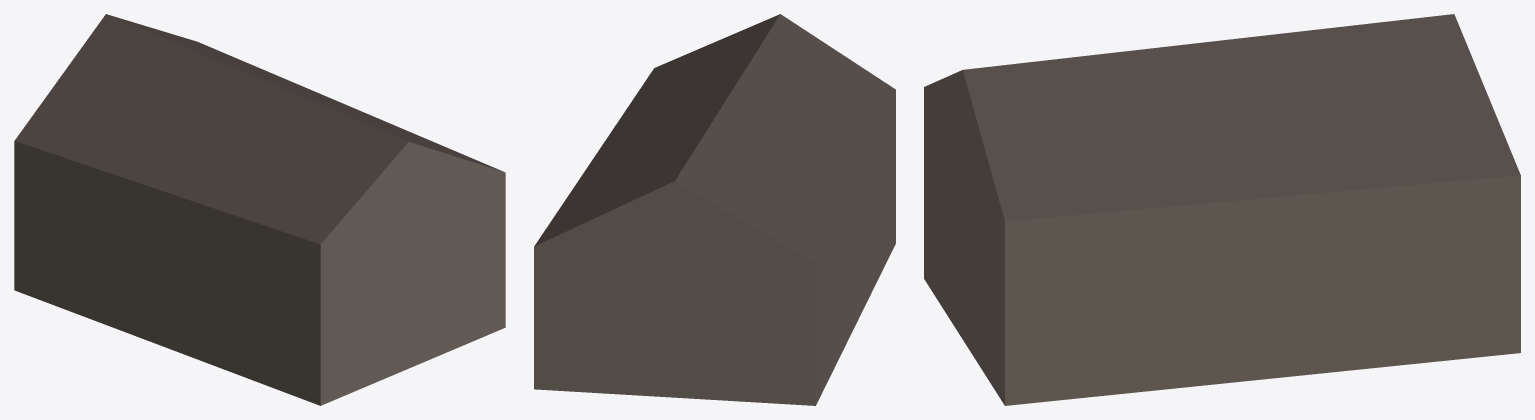
3 renders of one model, left to right at view 1: azimuth 30°, elevation 25°; view 2: azimuth 150°, elevation 25°; view 3: azimuth 270°, elevation 25°, orthographic. The views are drawn at different scales.
Parts seen in each view (by area): view 1: HP-w373833595; view 2: HP-w373833595; view 3: HP-w373833595.
Boxes of the visible parts, x1,y1,x2,y2 form: HP-w373833595: (14,14,505,405); HP-w373833595: (534,14,895,405); HP-w373833595: (924,14,1520,405).
Size of the model in its own units: 13.86 by 9.1 by 18.25.
